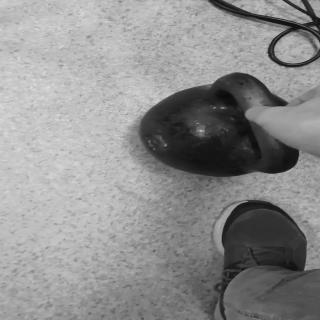girya: (143, 74, 298, 178)
